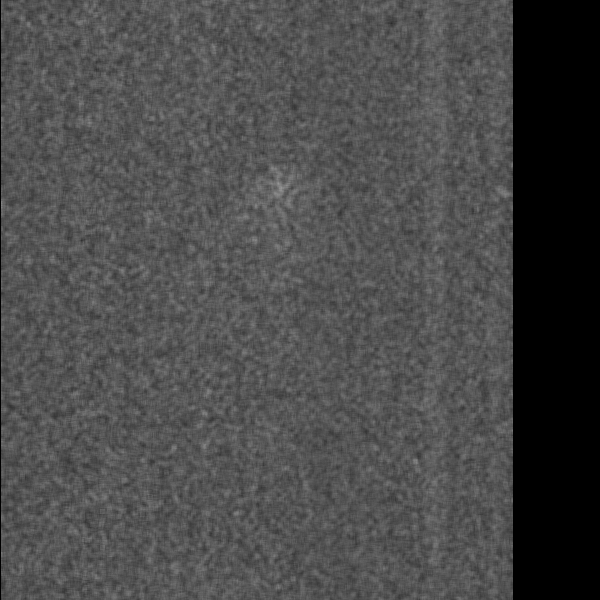spark: (295, 434, 352, 508), (429, 78, 467, 116)
